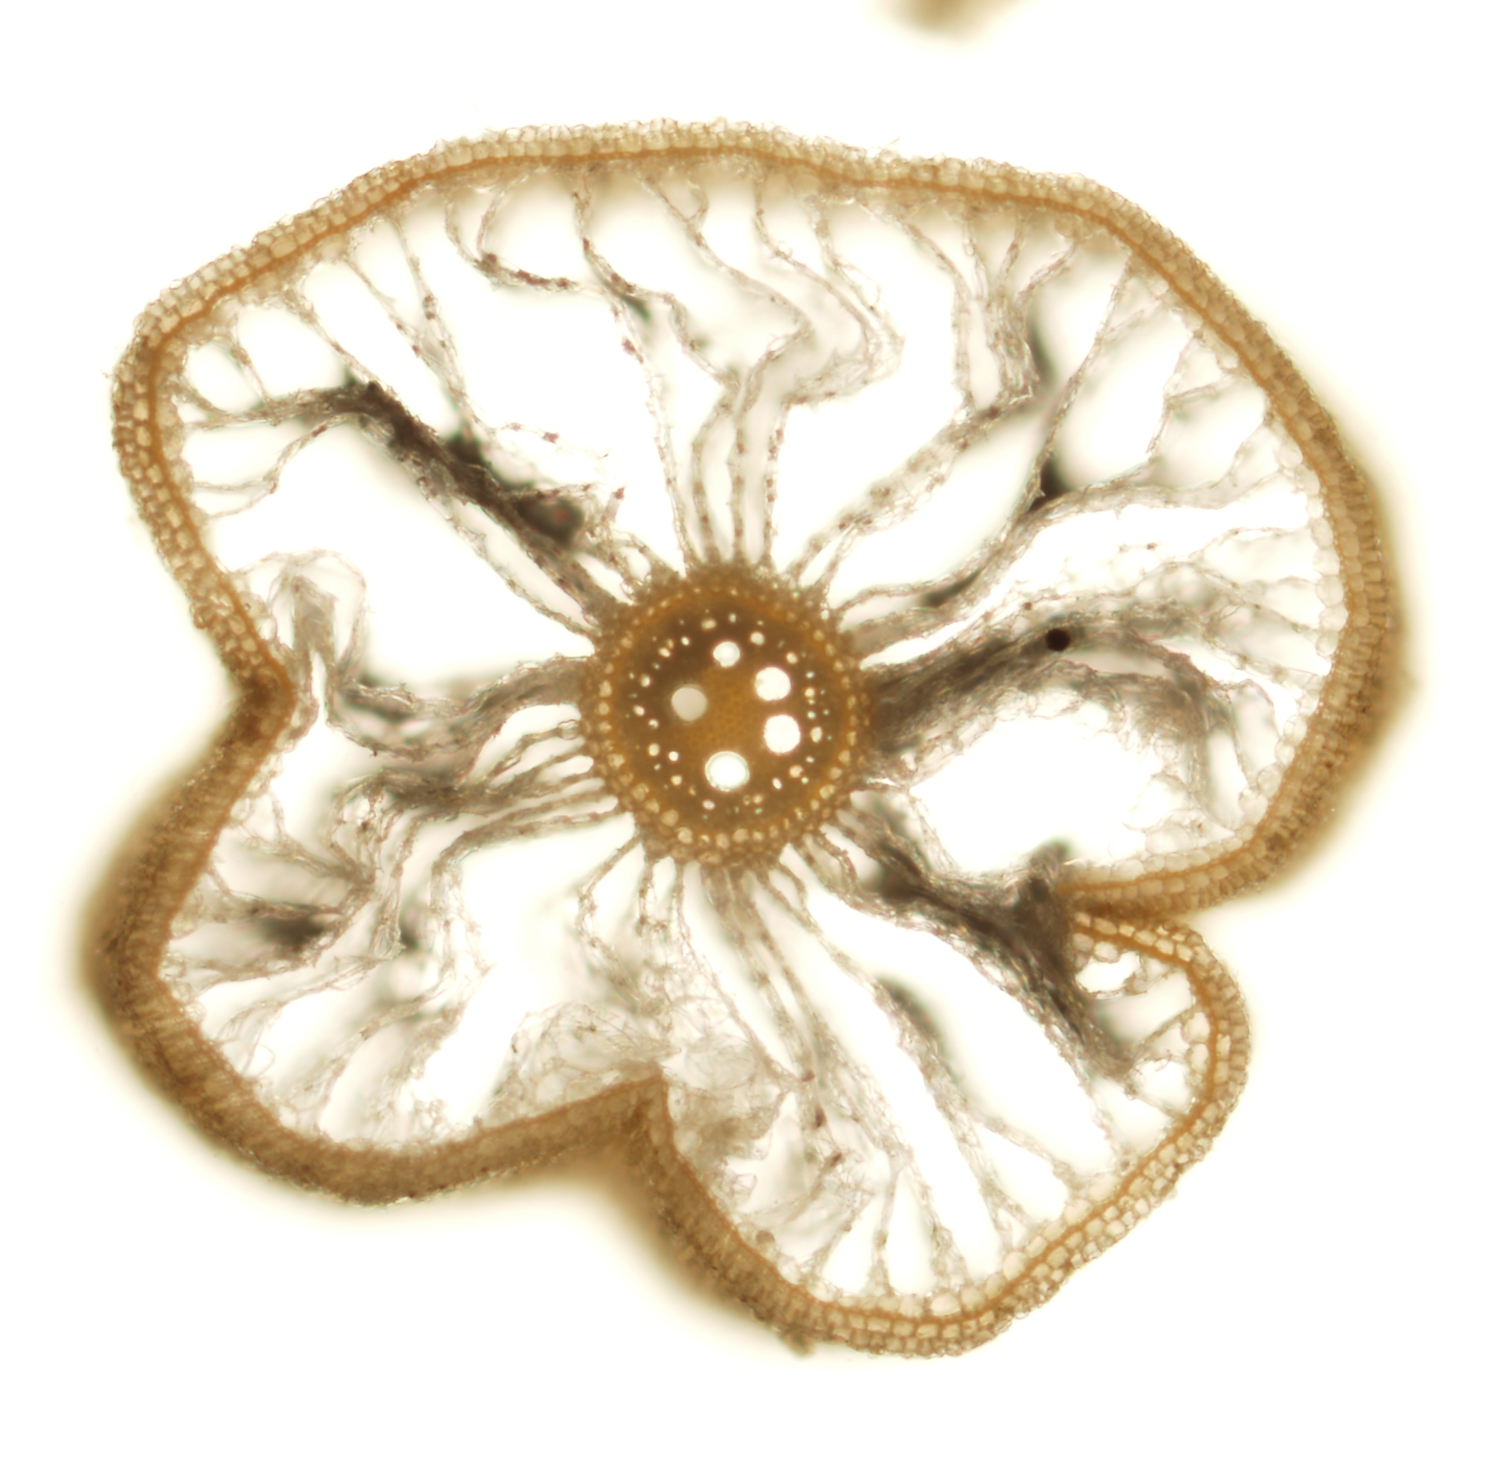lm: (705, 752, 750, 792), (763, 714, 801, 754), (754, 666, 790, 702), (672, 687, 708, 720), (713, 641, 740, 666)
